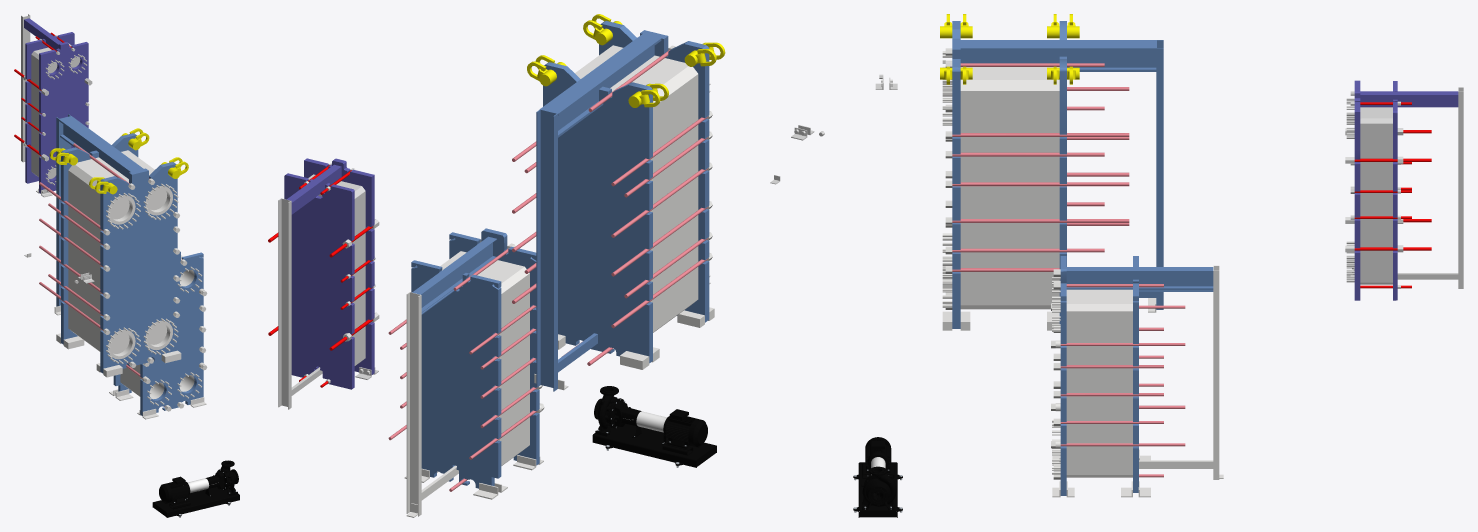
The model's file is engineer_comby-070.glb.
The picture shows the model from 3 angles, left to right: view 1: azimuth 30°, elevation 25°; view 2: azimuth 150°, elevation 25°; view 3: azimuth 270°, elevation 25°; orthographic projection. The views are drawn at different scales.
Parts seen in each view (by area): view 1: L_20ea5424_6e76_463a_a9a7_6a8618ab3245_I3, L_3807ebf7_ccdf_4521_b72d_69fbecacf36e_I6, L_39127440_bf9f_4af6_9c82_c5ece4f3a2be_I6, Mesh_227_1c0dc337_2ef2_4403_9130_5afe7d55d4f4, PartBody.037, L_8dc1eea1_a72e_4271_997e_4fa5cf3de57c_I17, L_f4585978_6d9e_4e16_a8f7_c727437497d6_I23, L_726214f9_5d5d_4e06_9136_cd39c09943dc_I12, Mesh_225_a2bb8f19_ef43_4fb9_bc10_5c1006b0fa39, Mesh_229_22fcab63_96b8_455e_996a_fc8af03dae57, L_7ced0e6b_f229_4d24_871e_c41d6f81af1f_I9, L_2c1c9a12_37b2_4a8b_841c_917191ef50aa_I5 (+13 smaller); view 2: L_8dc1eea1_a72e_4271_997e_4fa5cf3de57c_I17, L_162bd5d2_1a15_4798_ba48_6523fc2de6e2_I3, Mesh_225_a2bb8f19_ef43_4fb9_bc10_5c1006b0fa39, L_3807ebf7_ccdf_4521_b72d_69fbecacf36e_I6, L_2c1c9a12_37b2_4a8b_841c_917191ef50aa_I5, PartBody.037, L_7ced0e6b_f229_4d24_871e_c41d6f81af1f_I9, L_20ea5424_6e76_463a_a9a7_6a8618ab3245_I3, L_726214f9_5d5d_4e06_9136_cd39c09943dc_I12, L_ccf9d600_8c00_4b73_a1eb_30f42dfc8c7d_I12, L_f4585978_6d9e_4e16_a8f7_c727437497d6_I23, L_39127440_bf9f_4af6_9c82_c5ece4f3a2be_I6 (+8 smaller); view 3: L_3807ebf7_ccdf_4521_b72d_69fbecacf36e_I6, L_7ced0e6b_f229_4d24_871e_c41d6f81af1f_I9, L_726214f9_5d5d_4e06_9136_cd39c09943dc_I12, Mesh_229_22fcab63_96b8_455e_996a_fc8af03dae57, L_f4585978_6d9e_4e16_a8f7_c727437497d6_I23, L_50cd1da1_81e6_44b4_9e31_6da2080704c2_I7, L_79b6e457_47dd_421c_9863_9f8bab91f3a9_I8, PartBody.037, L_20ea5424_6e76_463a_a9a7_6a8618ab3245_I3, L_2c1c9a12_37b2_4a8b_841c_917191ef50aa_I5, L_8dc1eea1_a72e_4271_997e_4fa5cf3de57c_I17, L_39127440_bf9f_4af6_9c82_c5ece4f3a2be_I6 (+9 smaller).
Boxes of the visible parts, left/top/right/bottom form: L_20ea5424_6e76_463a_a9a7_6a8618ab3245_I3: left=100, top=162, right=177, bottom=373; L_3807ebf7_ccdf_4521_b72d_69fbecacf36e_I6: left=68, top=150, right=167, bottom=353; L_39127440_bf9f_4af6_9c82_c5ece4f3a2be_I6: left=140, top=251, right=203, bottom=415; Mesh_227_1c0dc337_2ef2_4403_9130_5afe7d55d4f4: left=39, top=42, right=88, bottom=193; PartBody.037: left=152, top=460, right=239, bottom=517; L_8dc1eea1_a72e_4271_997e_4fa5cf3de57c_I17: left=61, top=133, right=138, bottom=344; L_f4585978_6d9e_4e16_a8f7_c727437497d6_I23: left=58, top=116, right=143, bottom=178; L_726214f9_5d5d_4e06_9136_cd39c09943dc_I12: left=39, top=143, right=149, bottom=363; Mesh_225_a2bb8f19_ef43_4fb9_bc10_5c1006b0fa39: left=25, top=32, right=74, bottom=183; Mesh_229_22fcab63_96b8_455e_996a_fc8af03dae57: left=31, top=43, right=80, bottom=178; L_7ced0e6b_f229_4d24_871e_c41d6f81af1f_I9: left=120, top=255, right=194, bottom=399; L_2c1c9a12_37b2_4a8b_841c_917191ef50aa_I5: left=56, top=114, right=71, bottom=306; L_8dc1eea1_a72e_4271_997e_4fa5cf3de57c_I17: left=543, top=62, right=652, bottom=363; L_162bd5d2_1a15_4798_ba48_6523fc2de6e2_I3: left=411, top=260, right=501, bottom=488; Mesh_225_a2bb8f19_ef43_4fb9_bc10_5c1006b0fa39: left=284, top=173, right=354, bottom=389; L_3807ebf7_ccdf_4521_b72d_69fbecacf36e_I6: left=575, top=45, right=698, bottom=332; L_2c1c9a12_37b2_4a8b_841c_917191ef50aa_I5: left=536, top=109, right=597, bottom=391; PartBody.037: left=592, top=386, right=716, bottom=467; L_7ced0e6b_f229_4d24_871e_c41d6f81af1f_I9: left=440, top=251, right=529, bottom=465; L_20ea5424_6e76_463a_a9a7_6a8618ab3245_I3: left=599, top=21, right=709, bottom=322; L_726214f9_5d5d_4e06_9136_cd39c09943dc_I12: left=512, top=50, right=707, bottom=365; L_ccf9d600_8c00_4b73_a1eb_30f42dfc8c7d_I12: left=406, top=292, right=421, bottom=517; L_f4585978_6d9e_4e16_a8f7_c727437497d6_I23: left=540, top=34, right=661, bottom=137; L_39127440_bf9f_4af6_9c82_c5ece4f3a2be_I6: left=449, top=228, right=539, bottom=465; L_3807ebf7_ccdf_4521_b72d_69fbecacf36e_I6: left=960, top=67, right=1059, bottom=309; L_7ced0e6b_f229_4d24_871e_c41d6f81af1f_I9: left=1066, top=289, right=1132, bottom=477; L_726214f9_5d5d_4e06_9136_cd39c09943dc_I12: left=952, top=63, right=1129, bottom=271; Mesh_229_22fcab63_96b8_455e_996a_fc8af03dae57: left=1360, top=107, right=1392, bottom=284; L_f4585978_6d9e_4e16_a8f7_c727437497d6_I23: left=960, top=40, right=1156, bottom=71; L_50cd1da1_81e6_44b4_9e31_6da2080704c2_I7: left=1066, top=267, right=1213, bottom=291; L_79b6e457_47dd_421c_9863_9f8bab91f3a9_I8: left=1060, top=284, right=1185, bottom=477; PartBody.037: left=853, top=437, right=902, bottom=517; L_20ea5424_6e76_463a_a9a7_6a8618ab3245_I3: left=952, top=21, right=960, bottom=328; L_2c1c9a12_37b2_4a8b_841c_917191ef50aa_I5: left=1139, top=40, right=1163, bottom=309; L_8dc1eea1_a72e_4271_997e_4fa5cf3de57c_I17: left=1059, top=21, right=1066, bottom=324; L_39127440_bf9f_4af6_9c82_c5ece4f3a2be_I6: left=1060, top=256, right=1066, bottom=495.
Size of the model in its own units: 3.9 by 5.9 by 7.48.
11 materials, 1 textured.
